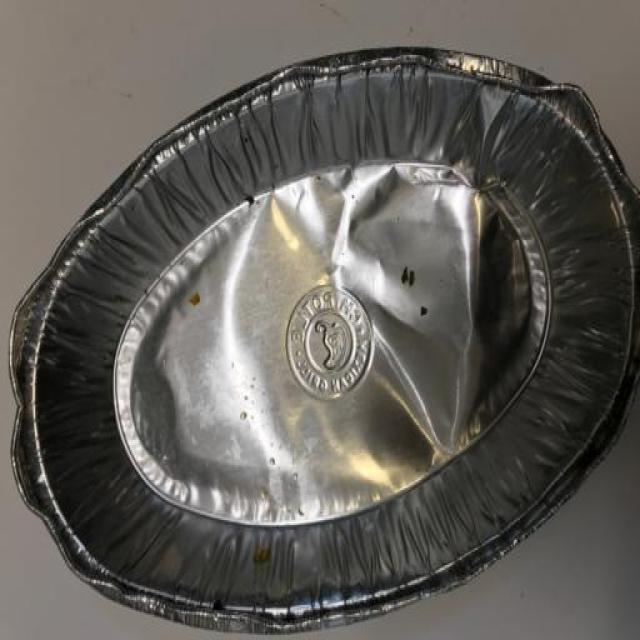metal: (7, 43, 638, 635)
